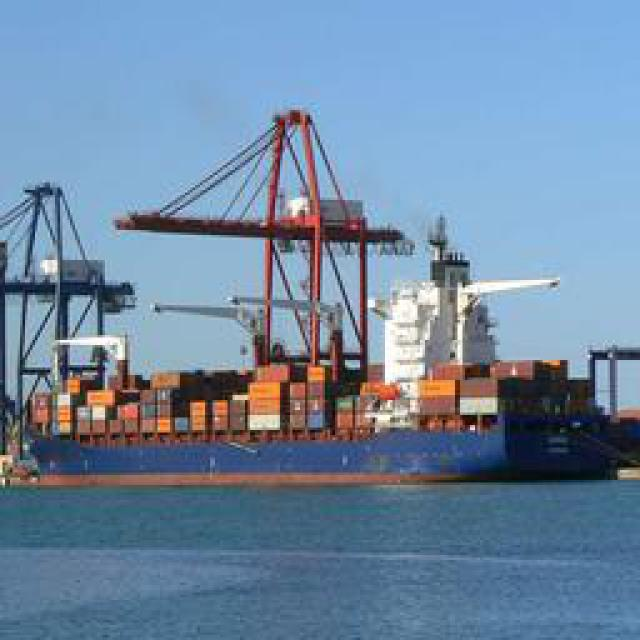Ship: (24, 111, 614, 491)
